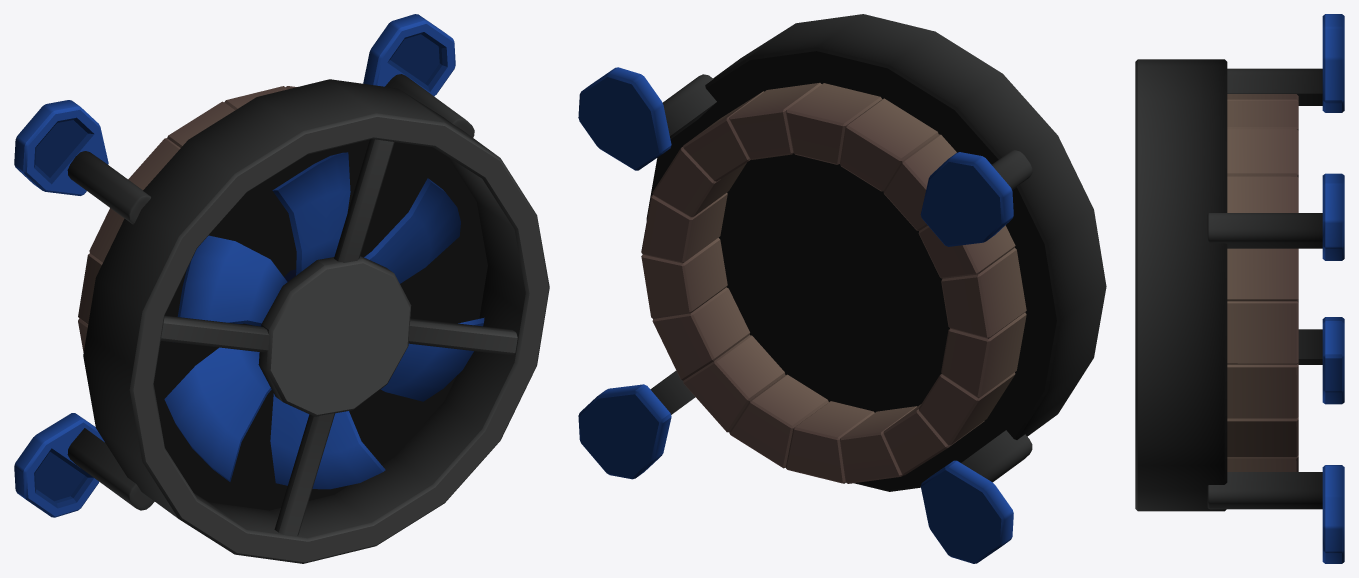
Rendered from Cooling_systems_lvl_03_V01.fbx.
3 views of the same model, side by side, from view 1: azimuth 30°, elevation 25°; view 2: azimuth 150°, elevation 25°; view 3: azimuth 270°, elevation 25° (orthographic). The views are drawn at different scales.
Parts seen in each view (by area): view 1: Body_Cooling, Fan_Cooling; view 2: Body_Cooling; view 3: Body_Cooling.
Boxes of the visible parts, x1,y1,x2,y2 form: Body_Cooling: [14, 14, 549, 563]; Fan_Cooling: [164, 152, 484, 489]; Body_Cooling: [578, 14, 1106, 563]; Body_Cooling: [1135, 14, 1344, 563].
Size of the model in its own units: 47.51 by 45.43 by 21.31.
